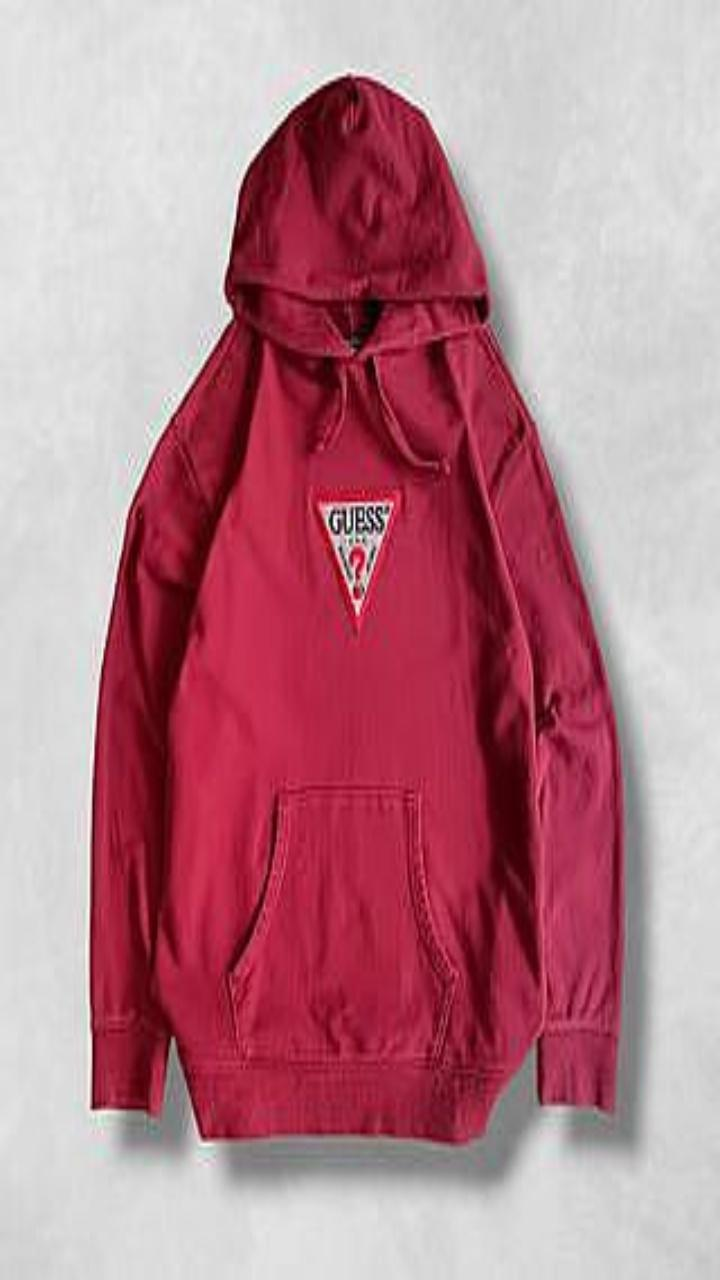Hoodie: (90, 74, 622, 1141)
